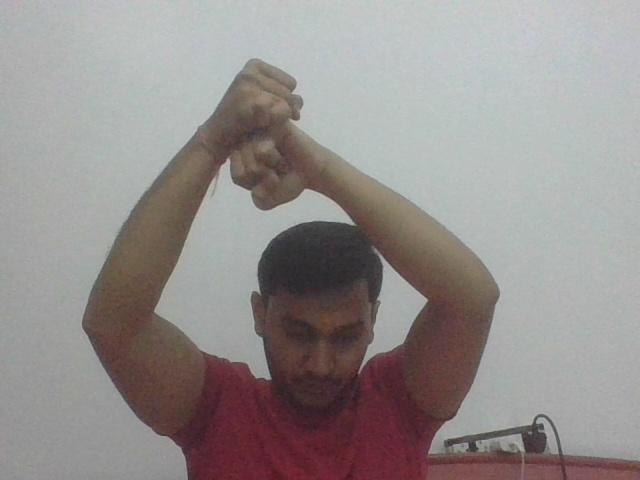S: (225, 54, 310, 214)
